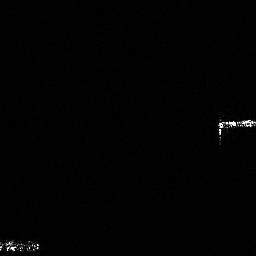ship: (215, 118, 256, 143), (1, 237, 41, 253)
